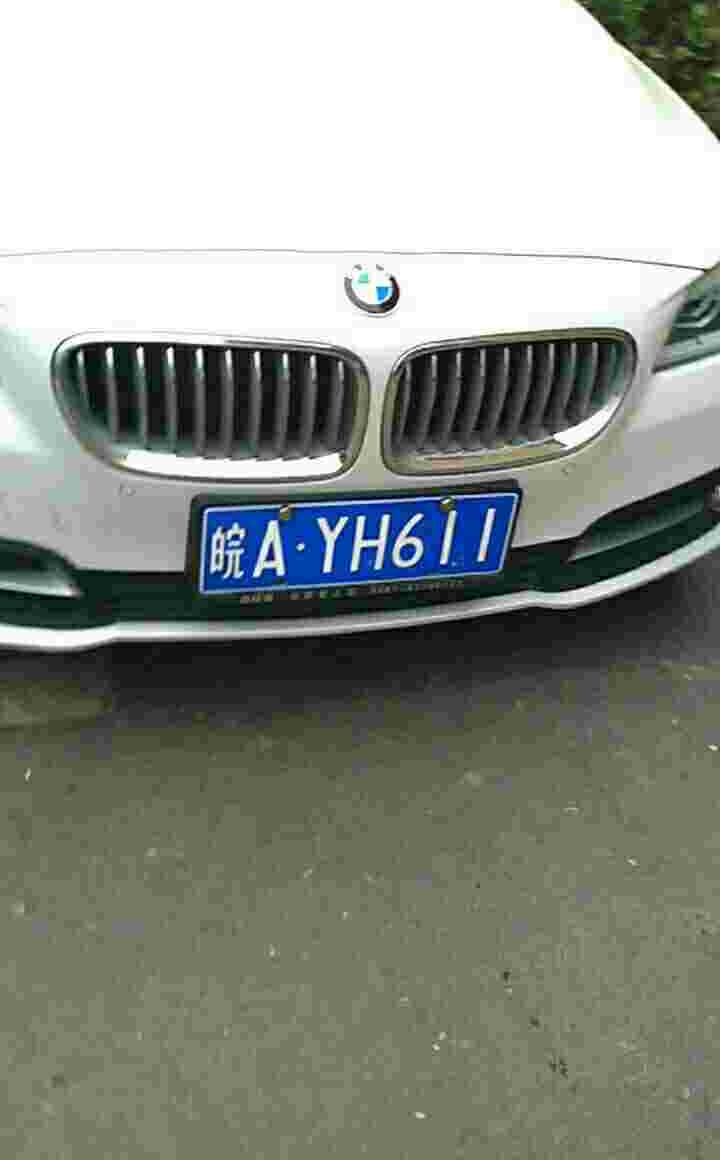license_plate: (198, 482, 525, 606)
